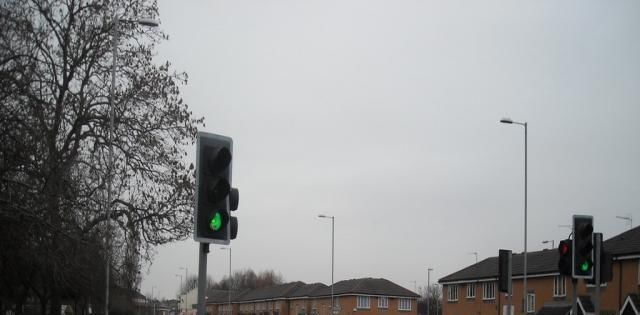green_light: (194, 131, 233, 245), (573, 214, 595, 278)
